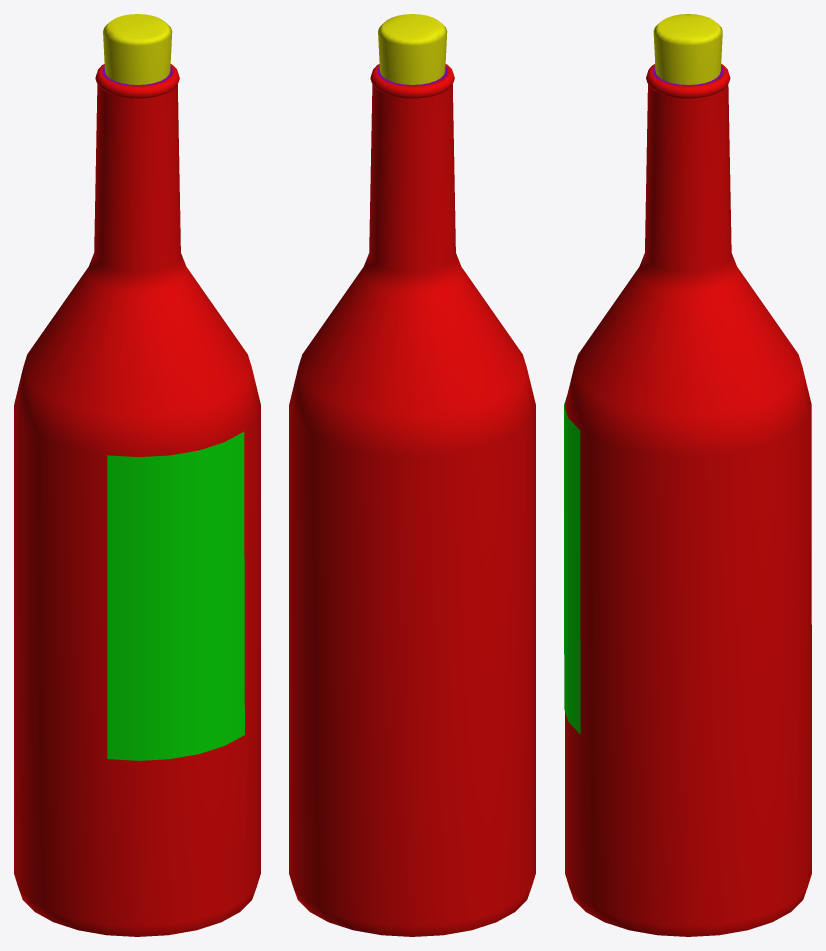
Rendered from wine_bottles_grp.fbx.
3 renders of one model, left to right at view 1: azimuth 30°, elevation 25°; view 2: azimuth 150°, elevation 25°; view 3: azimuth 270°, elevation 25°, orthographic.
Parts seen in each view (by area): view 1: wine_bottle_1, wine_bottle_cork_1; view 2: wine_bottle_1, wine_bottle_cork_1; view 3: wine_bottle_1, wine_bottle_cork_1.
Part boxes in pixels (box(x1,y1,x2,y2)): wine_bottle_1: box(14, 64, 260, 936); wine_bottle_cork_1: box(103, 14, 172, 84); wine_bottle_1: box(289, 64, 535, 936); wine_bottle_cork_1: box(378, 14, 447, 84); wine_bottle_1: box(564, 64, 811, 936); wine_bottle_cork_1: box(653, 14, 722, 84).
Bounding box in the file's own units: 8.92 × 34.32 × 8.96.
